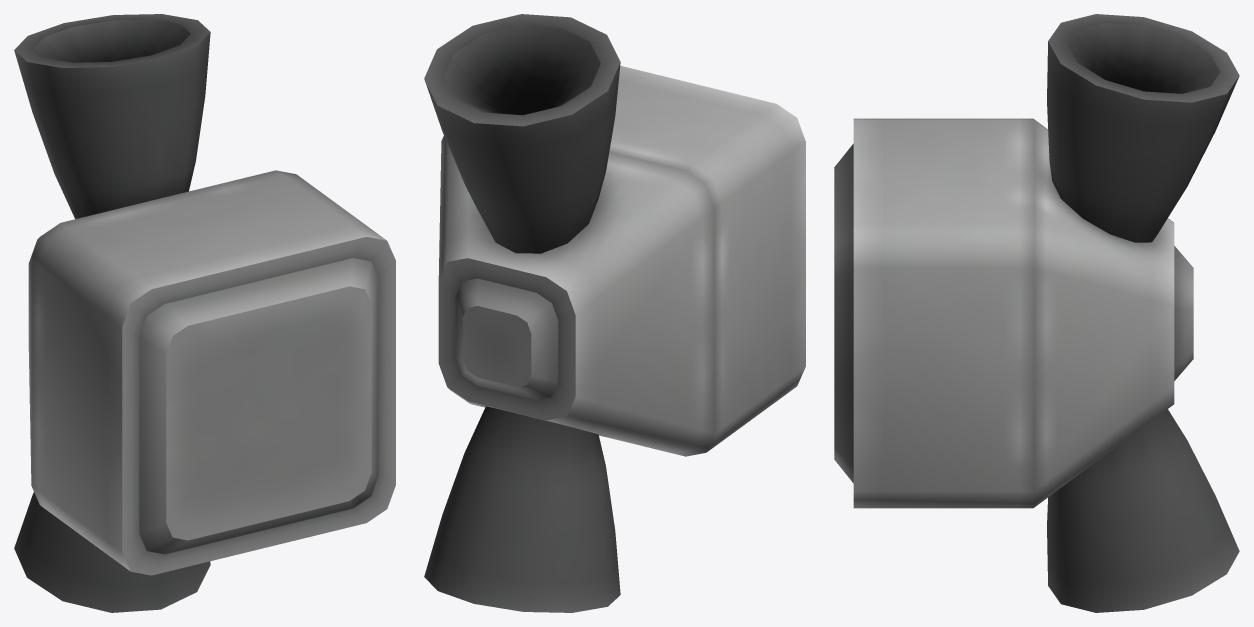
Rendered from Tantares_RCS_3.obj.
3 renders of one model, left to right at view 1: azimuth 30°, elevation 25°; view 2: azimuth 150°, elevation 25°; view 3: azimuth 270°, elevation 25°, orthographic.
Visible parts, largest first — view 1: Tantares_RCS_3; view 2: Tantares_RCS_3; view 3: Tantares_RCS_3.
Part boxes in pixels (box(x1,y1,x2,y2)): Tantares_RCS_3: box(14, 14, 395, 612); Tantares_RCS_3: box(424, 14, 805, 612); Tantares_RCS_3: box(834, 14, 1239, 612).
Bounding box in the file's own units: 0.1 × 0.1923 × 0.1297.
